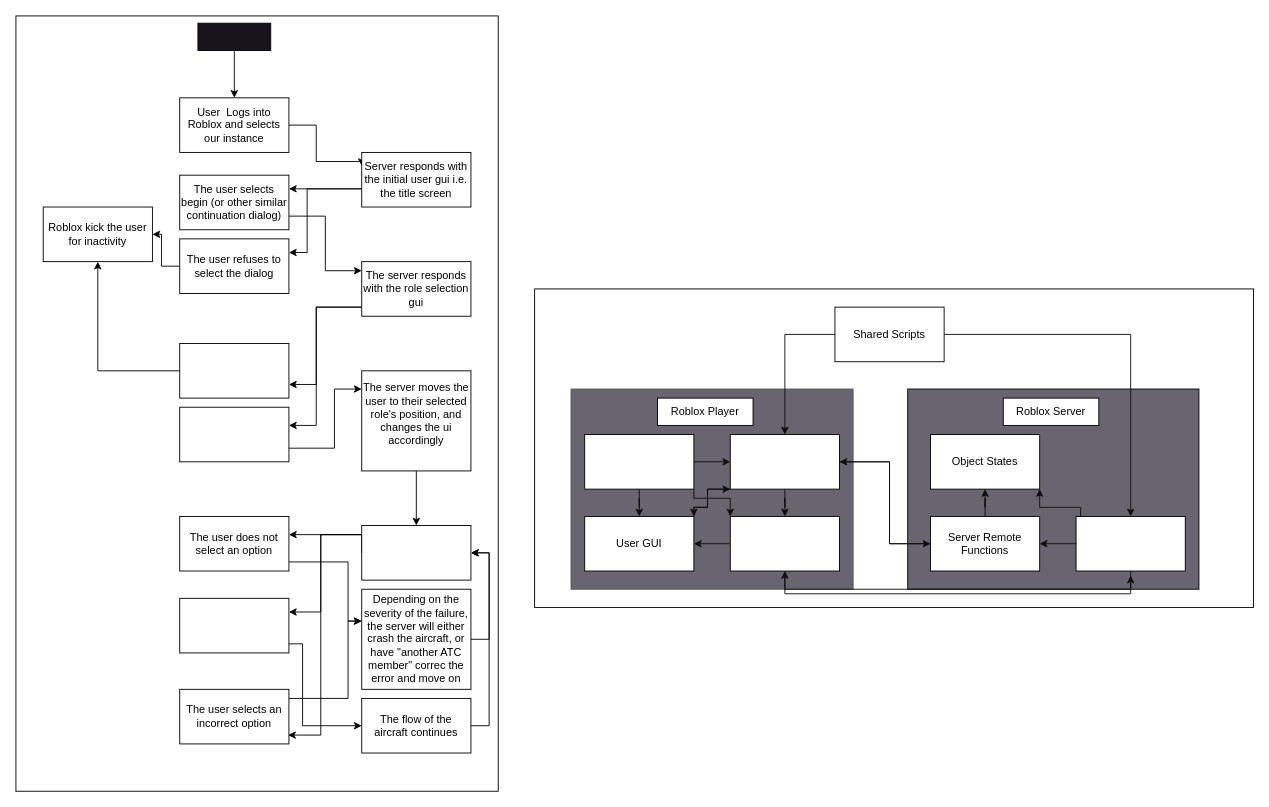
Some shapes in this 1269 by 807 pixel diagram are drawn without their labels. The centre of each missing label's shape, as x and y in pixels:
"Client Local Code" goes at point (784, 461).
"Client Remote Functions" goes at point (784, 543).
"Entry Point" goes at point (234, 36).
"Server Local Code" goes at point (1130, 543).
"The server presents the user with a simulated pilot and a relevant situation" goes at point (416, 552).
"The user refuses to select a role" goes at point (234, 370).
"The User selects a role" goes at point (234, 434).
"The user selects the correct option" goes at point (234, 625).
"User Inputs" goes at point (639, 461).
